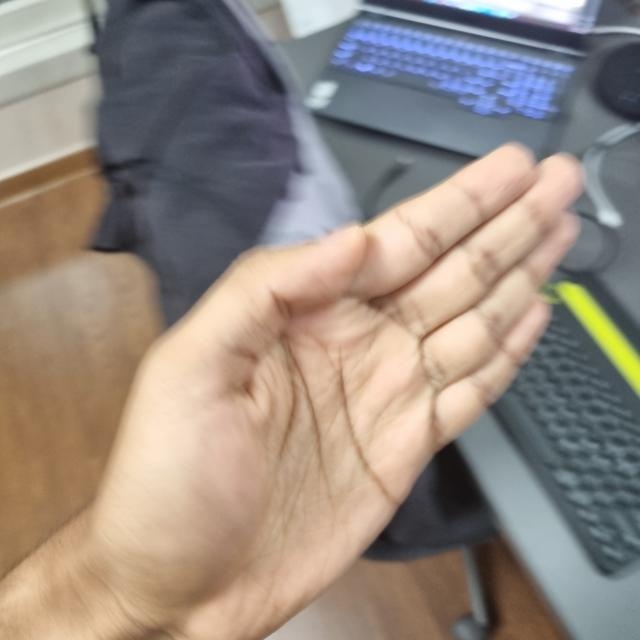Paper: (99, 147, 582, 634)
